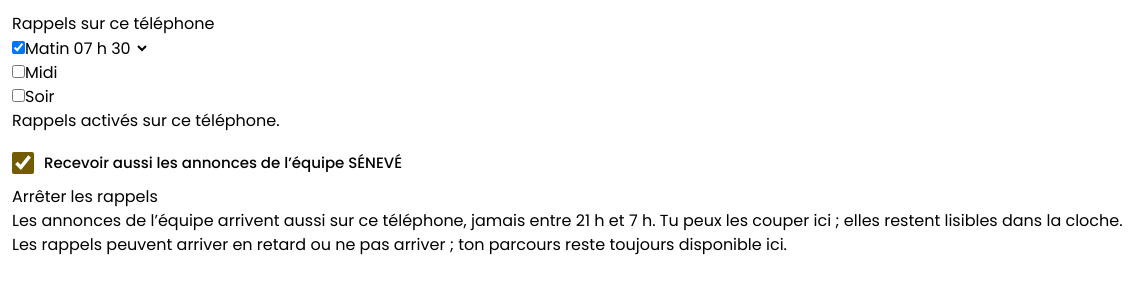
Rappels sur ce téléphone › restaure aussi l’horaire précédent si son enregistrement échoue
Step 1. Select "08 h 00" in the dropdown named "Heure du rappel : Matin" → x=110, y=48, box left=70, top=36, right=150, bottom=61
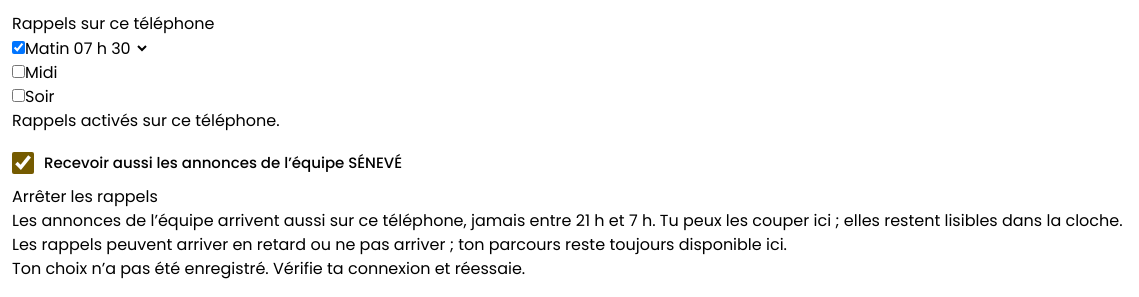
Now the message "Ton choix n’a pas été enregistré. Vérifie ta connexion et réessaie." is shown, box left=12, top=257, right=525, bottom=280
